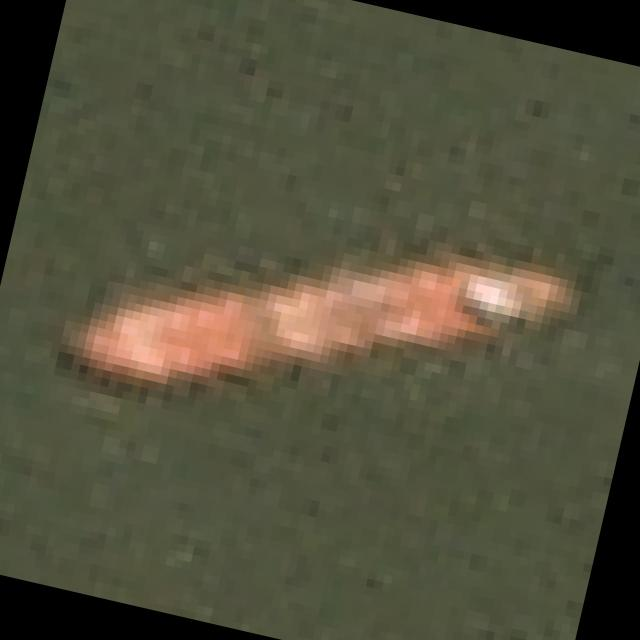ship: (47, 112, 596, 510)
